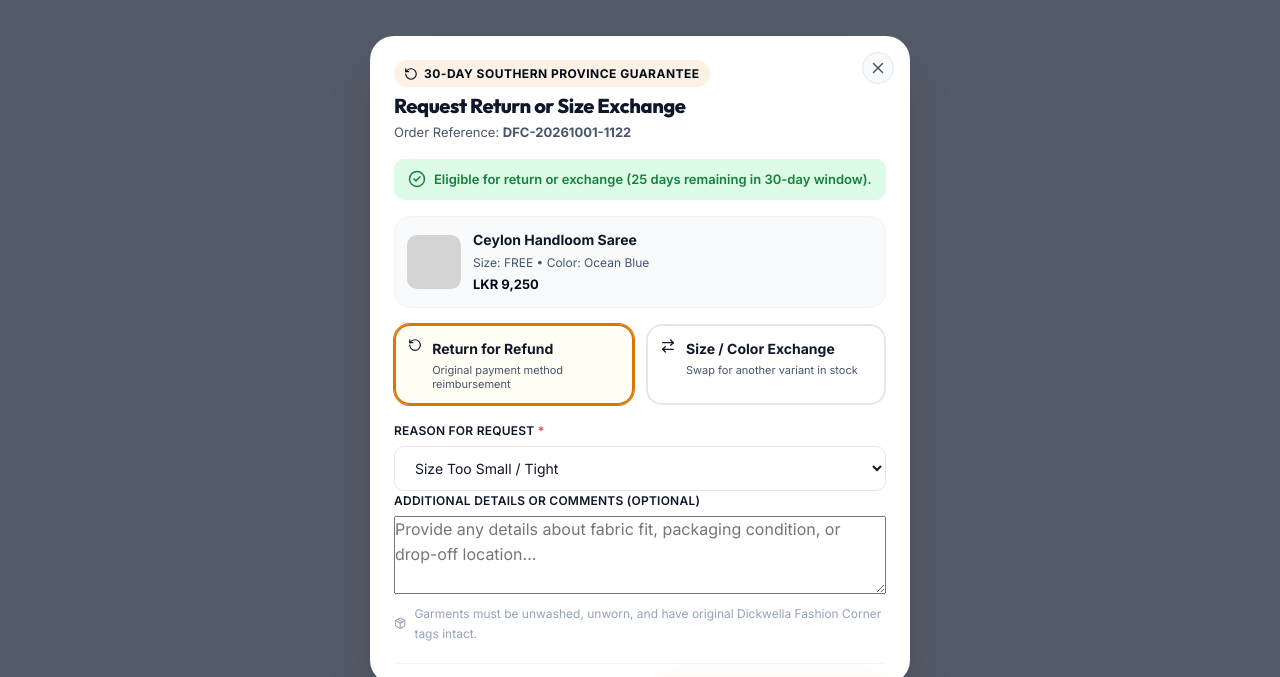
Test: STORM-FE-016: 30-Day Return Modal & Verified Review with Photo Upload › AC2: ReturnExchangeModal Form Interactions › toggles between Return for Refund and Size Exchange
This screenshot has width=1280, height=677.
Expected: the element with test id "eligible-return-banner" is shown, [394,159,886,200]
// Click Exchange
Step 1. Click the button with test id "btn-type-exchange" → (766, 365), box [646,324,886,405]
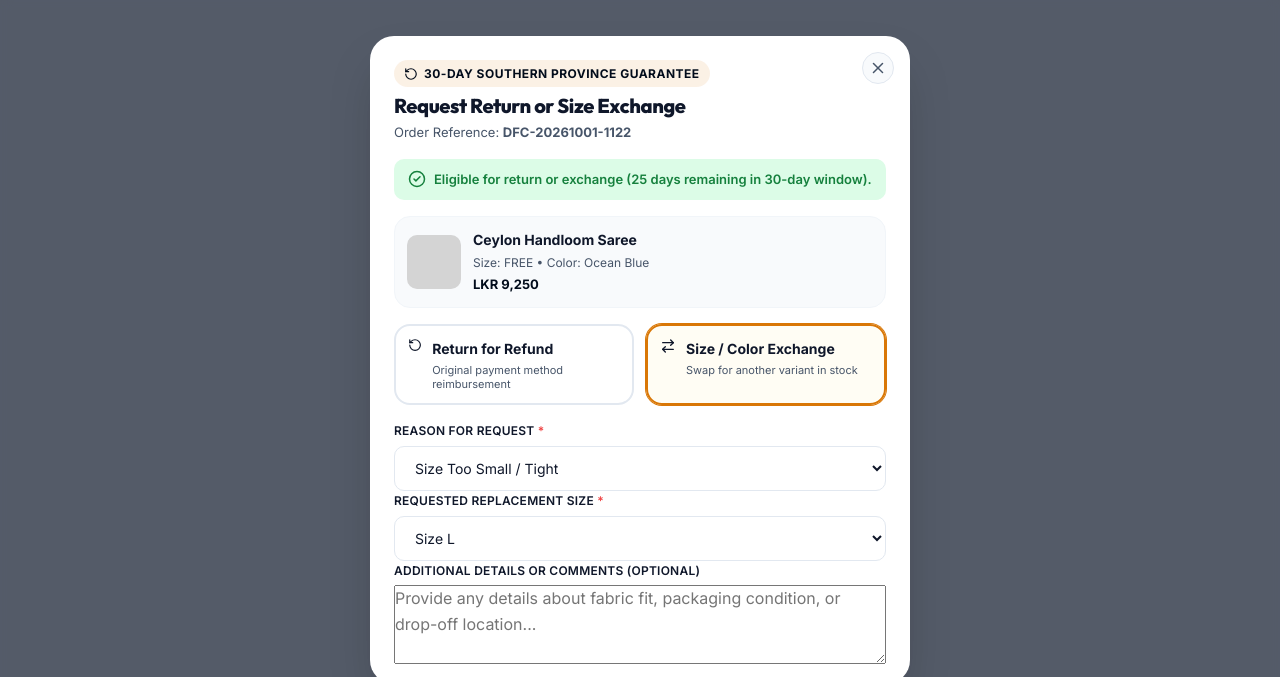
Now the element with test id "exchange-variant-group" is shown, box [394,491,886,561]
Now the dropdown with test id "select-exchange-size" is shown, box [394,516,886,561]
// Click Return
Step 2. Click the button with test id "btn-type-return" → (514, 365), box [394,324,634,405]
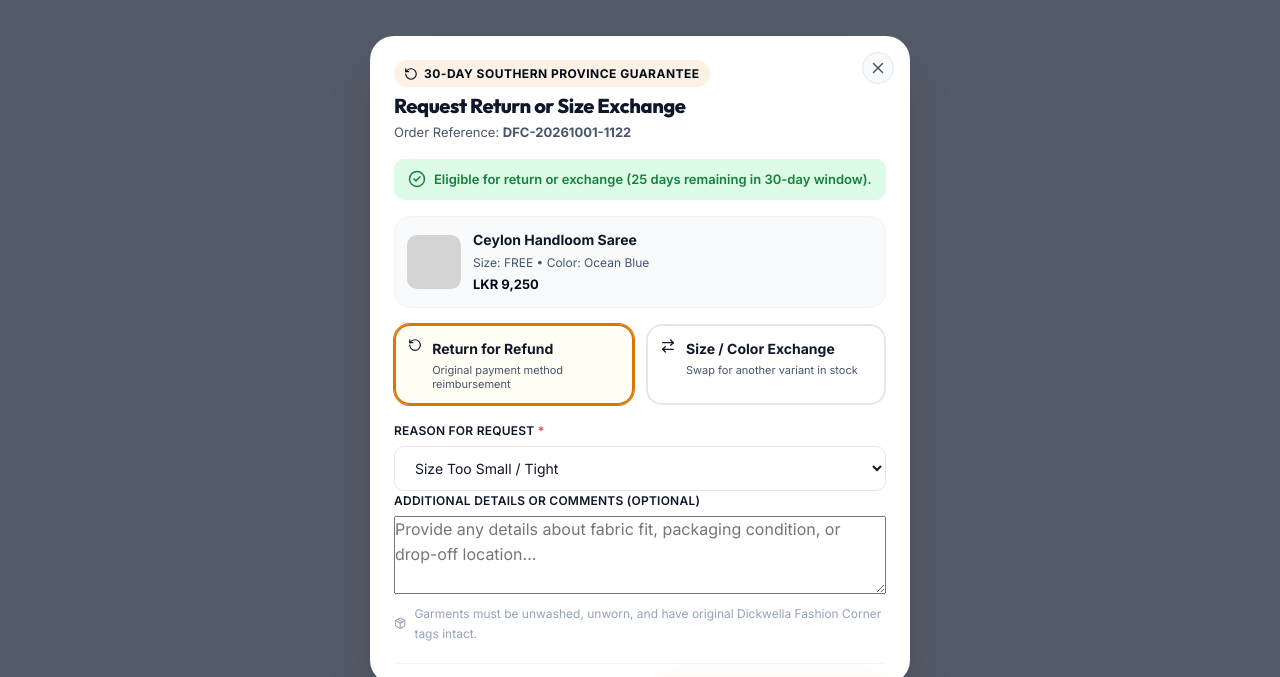
Now the element with test id "exchange-variant-group" is gone
